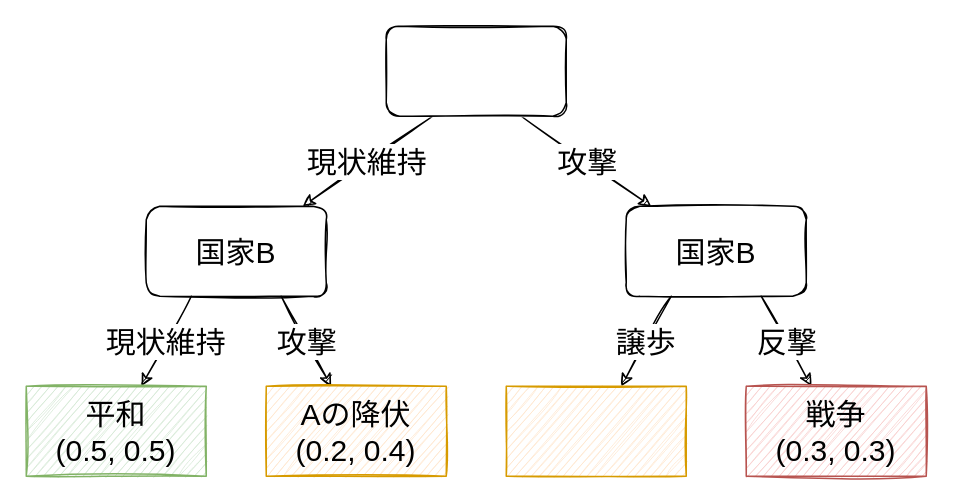
The diagram is 953 pixels wide and 503 high, and some of its shapes have lost their labels. The box of each missing label's shape, as (x1, y1, x2, y2) in pixels:
Bの降伏 (0.4, 0.2): (505, 385, 686, 476)
国家A: (385, 25, 566, 116)
